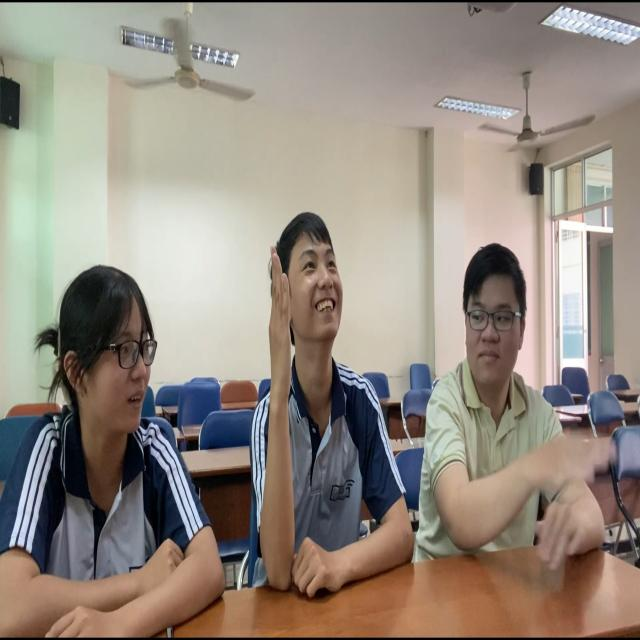raise_hand: (245, 203, 421, 596)
